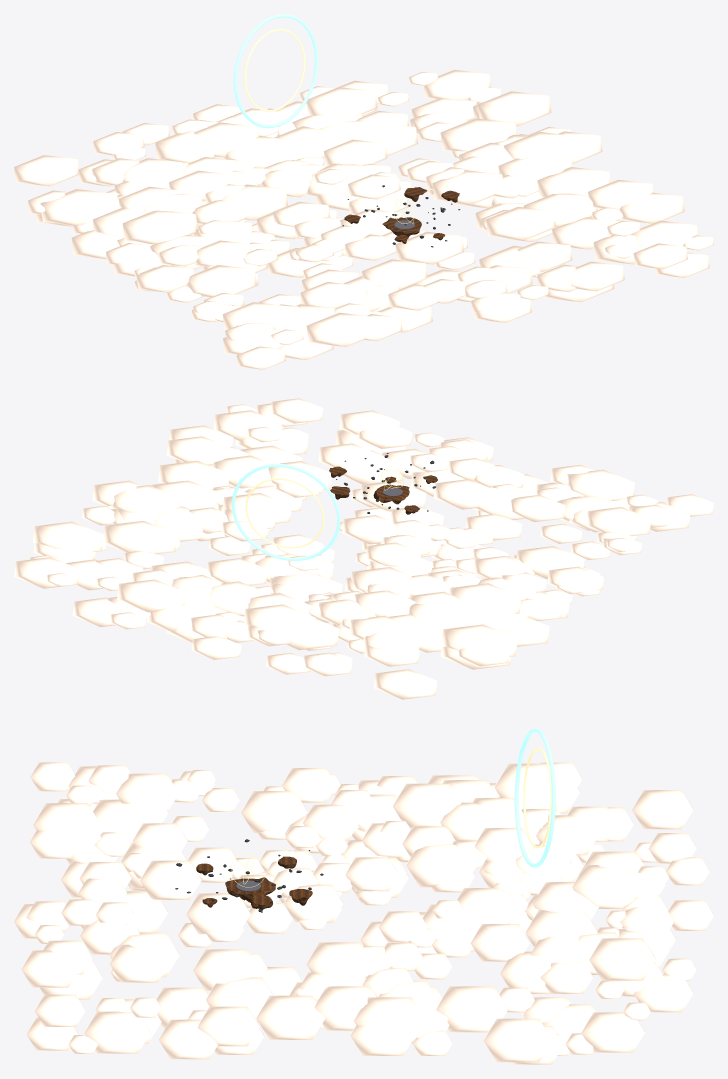
Rendered from time_rift_scenery.glb.
3 renders of one model, top to bottom at view 1: azimuth 30°, elevation 25°; view 2: azimuth 150°, elevation 25°; view 3: azimuth 270°, elevation 25°, orthographic. The views are drawn at different scales.
Parts seen in each view (by area): view 1: cloudsea, Torus.003; view 2: cloudsea, Torus.003, Torus.004; view 3: cloudsea, Torus.003, isl, Torus.004.
Boxes of the visible parts, box(x1,y1,x2,y2) form: cloudsea: box(14, 69, 713, 369); Torus.003: box(233, 14, 318, 128); cloudsea: box(14, 398, 713, 699); Torus.003: box(232, 463, 340, 560); Torus.004: box(245, 478, 324, 548); cloudsea: box(14, 762, 713, 1064); Torus.003: box(514, 728, 555, 867); isl: box(225, 877, 275, 902); Torus.004: box(523, 747, 551, 848).
Bounding box in the file's own units: 537 × 163 × 537.
Materials: 13 (6 with a texture image).
